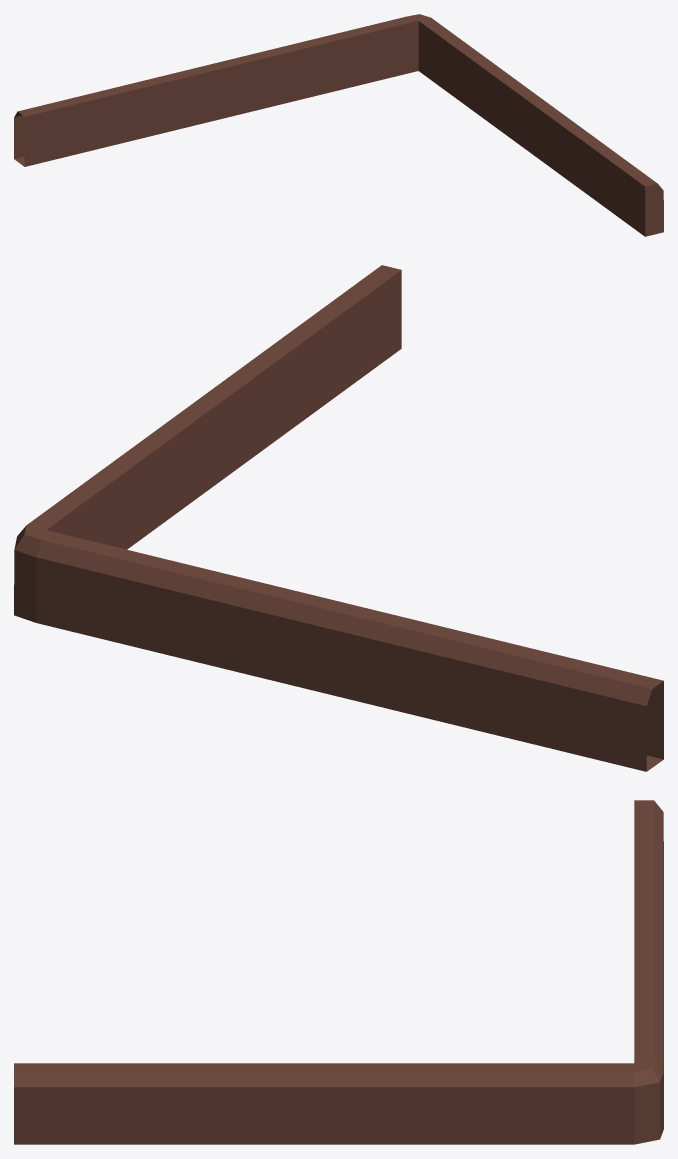
File: Randleiste gerade Eck.fbx
3 renders of one model, top to bottom at view 1: azimuth 30°, elevation 25°; view 2: azimuth 150°, elevation 25°; view 3: azimuth 270°, elevation 25°, orthographic. The views are drawn at different scales.
Visible parts, largest first — view 1: Randleiste gerade Eck; view 2: Randleiste gerade Eck; view 3: Randleiste gerade Eck.
Part boxes in pixels (bbox=[...]): Randleiste gerade Eck: bbox=[14, 14, 663, 236]; Randleiste gerade Eck: bbox=[14, 265, 663, 771]; Randleiste gerade Eck: bbox=[14, 800, 663, 1144].
Size of the model in its own units: 100 by 11.64 by 99.75.
